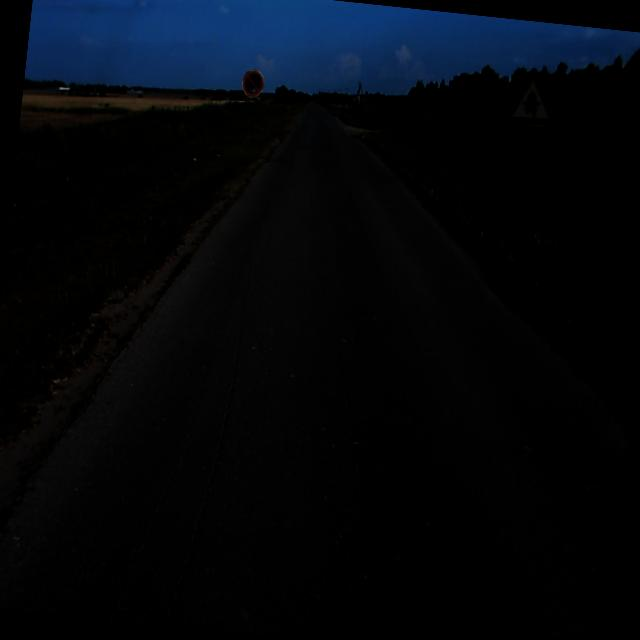road: (0, 102, 631, 640)
